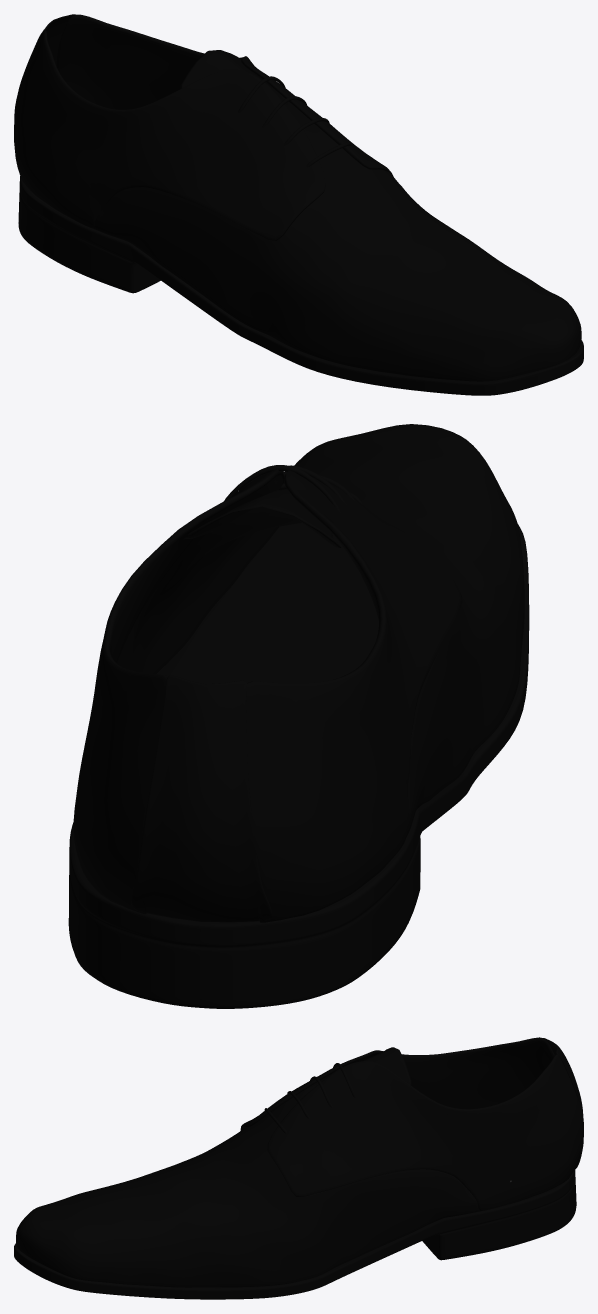
Rendered from shoes6.fbx.
The picture shows the model from 3 angles, top to bottom: view 1: azimuth 30°, elevation 25°; view 2: azimuth 150°, elevation 25°; view 3: azimuth 270°, elevation 25°; orthographic projection. The views are drawn at different scales.
Visible parts, largest first — view 1: node_id14, node_id16, node_id6, node_id8; view 2: node_id16, node_id6, node_id14, node_id8, node_id10; view 3: node_id14, node_id16, node_id6, node_id8.
Boxes of the visible parts, bbox=[...] form: node_id14: bbox=[93, 50, 581, 381]; node_id16: bbox=[14, 14, 393, 240]; node_id6: bbox=[18, 176, 583, 395]; node_id8: bbox=[18, 14, 75, 89]; node_id16: bbox=[73, 469, 462, 922]; node_id6: bbox=[68, 523, 529, 1008]; node_id14: bbox=[117, 424, 524, 836]; node_id8: bbox=[131, 675, 272, 922]; node_id10: bbox=[224, 465, 341, 513]; node_id14: bbox=[16, 1047, 480, 1287]; node_id16: bbox=[240, 1037, 583, 1210]; node_id6: bbox=[14, 1169, 576, 1299]; node_id8: bbox=[543, 1038, 583, 1169].
Size of the model in its own units: 0.3634 by 0.2607 by 0.7247.
Materials: 8 (8 with a texture image).
